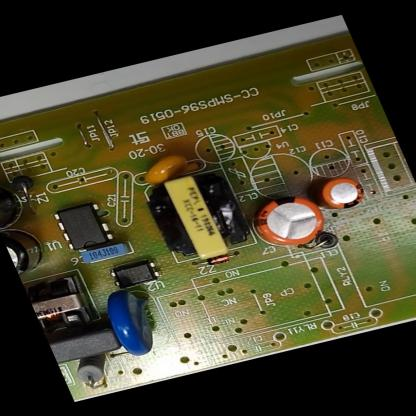Cap1: (236, 180, 336, 263)
Cap2: (303, 167, 378, 221)
Cap3: (0, 216, 62, 281)
Cap4: (0, 168, 44, 236)
MOSFET: (47, 195, 121, 259)
Mov: (87, 282, 174, 364)
Resistor: (63, 348, 122, 394)
Transformer: (140, 162, 260, 268), (22, 269, 103, 336)
